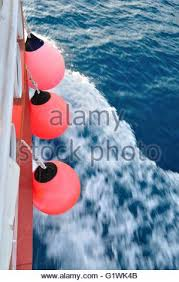buoy: (31, 158, 82, 216), (23, 40, 65, 91), (28, 93, 69, 140)
